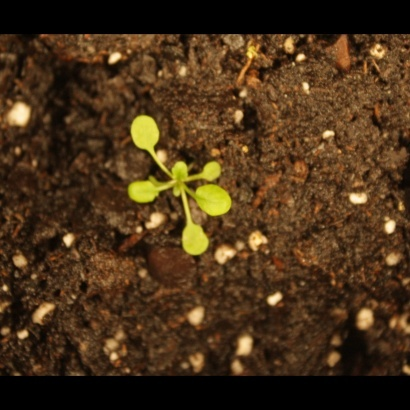leaf: (177, 210, 215, 262), (190, 180, 237, 220), (125, 110, 165, 156), (122, 176, 160, 209), (199, 160, 227, 185), (167, 159, 190, 182), (167, 181, 190, 204)
